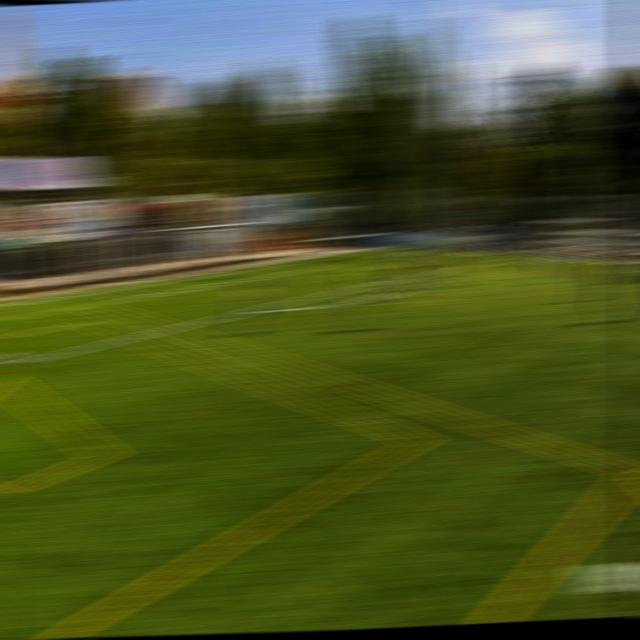bigarea_bottom_inner: (0, 346, 37, 380)
bigarea_top_inner: (476, 256, 503, 267)
bigarea_top_outter: (348, 248, 372, 256)
smallarea_bottom_inner: (123, 291, 147, 303)
smallarea_bottom_outter: (93, 287, 118, 294)
smallarea_top_inner: (308, 261, 332, 272)
smallarea_top_outter: (272, 259, 296, 268)
